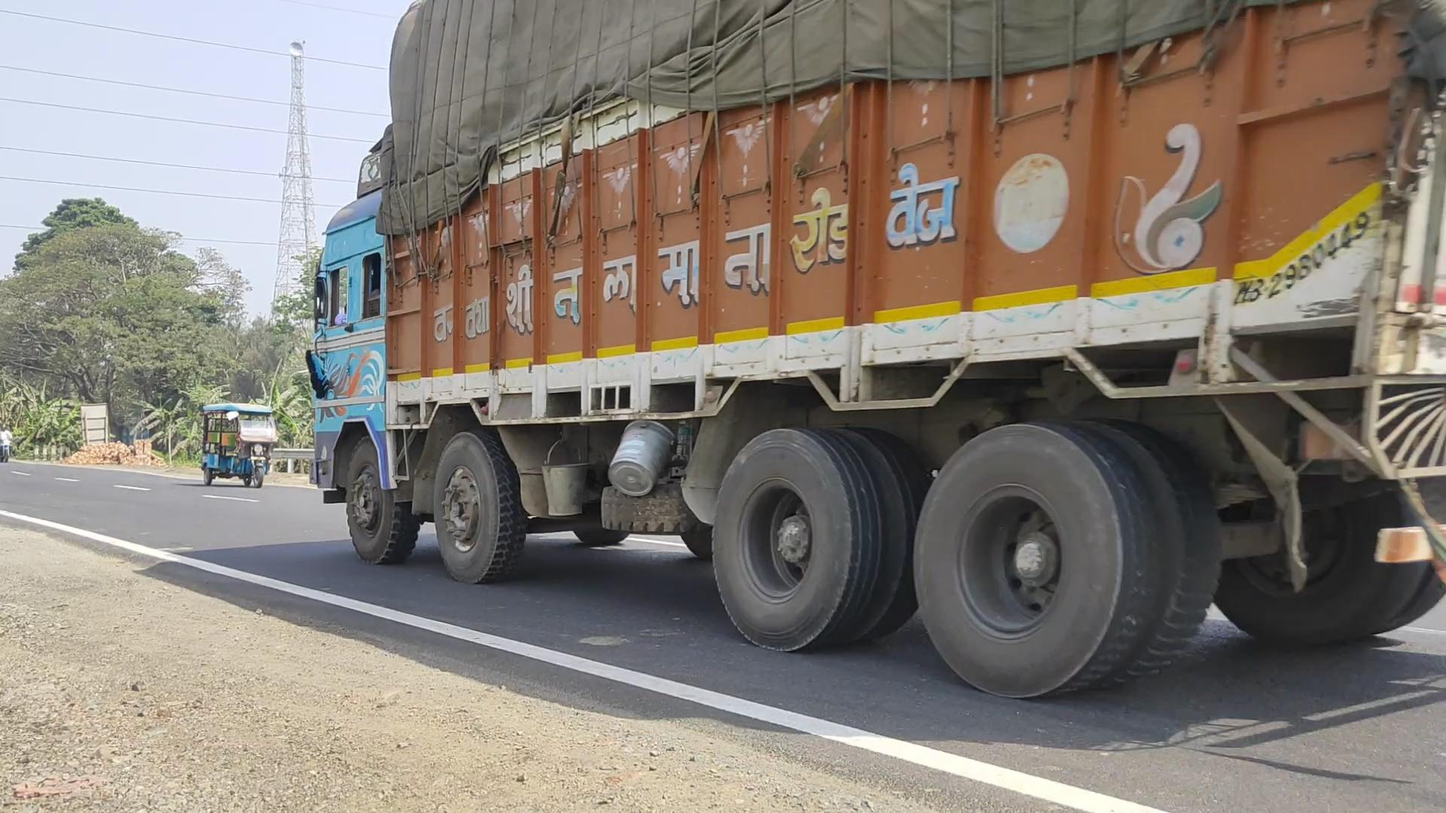Auto: (200, 403, 278, 489)
bike: (1, 423, 12, 463)
truck: (308, 14, 1446, 702)
